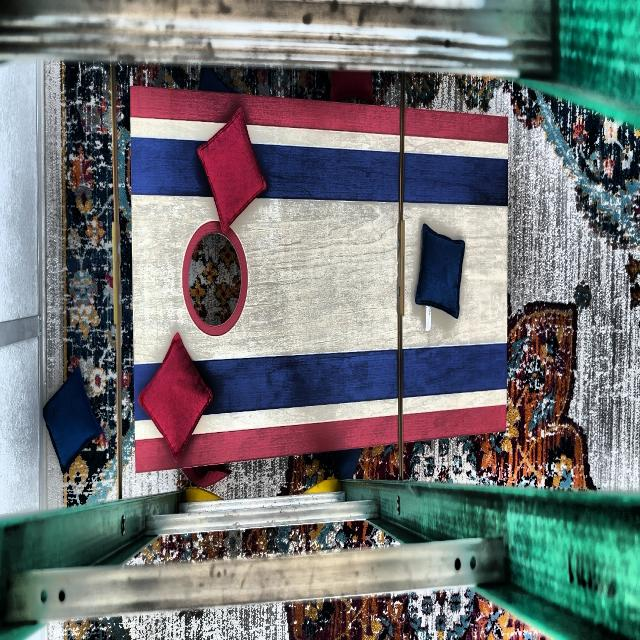blue-bean-bag: (43, 366, 102, 472), (414, 223, 464, 320), (198, 65, 240, 94), (336, 447, 362, 481)
board: (136, 118, 506, 430)
hole: (182, 219, 248, 336)
red-bean-bag: (138, 334, 213, 461), (198, 112, 268, 230), (331, 71, 373, 102), (181, 464, 233, 487)
